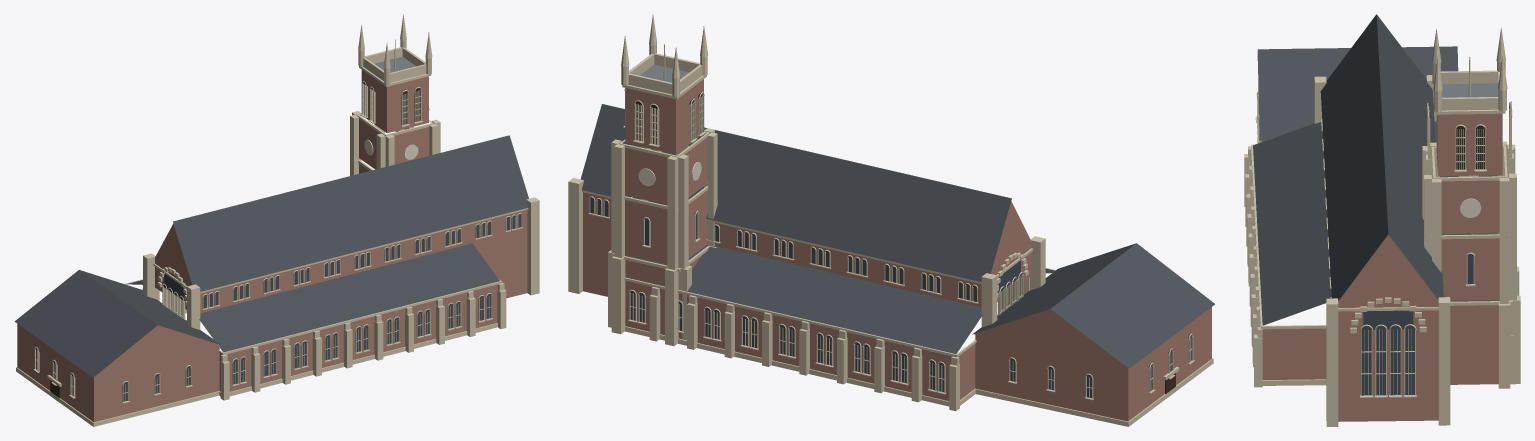
Rendered from st_pauls_hammersmith.glb.
3 renders of one model, left to right at view 1: azimuth 30°, elevation 25°; view 2: azimuth 150°, elevation 25°; view 3: azimuth 270°, elevation 25°, orthographic. The views are drawn at different scales.
Bounding box in the file's own units: 75.23 × 37.38 × 28.63.
